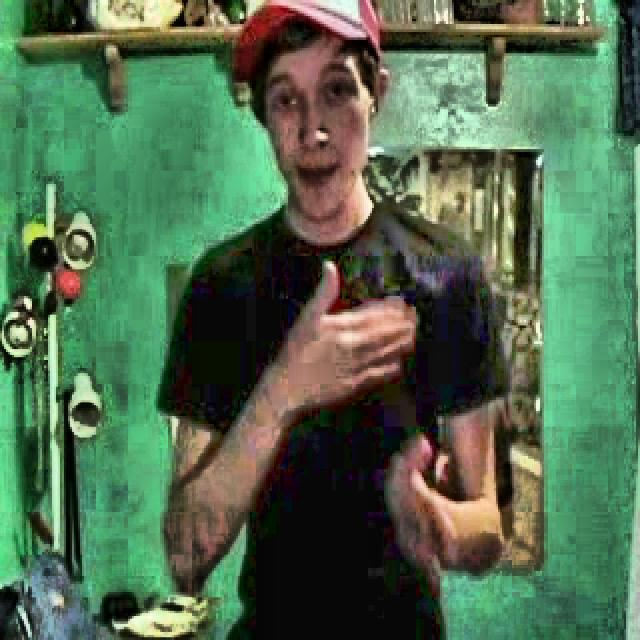F: (168, 5, 494, 640)
